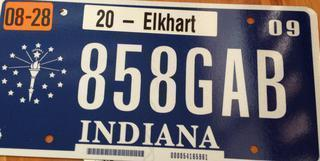placa de veiculo: (2, 0, 315, 155)
